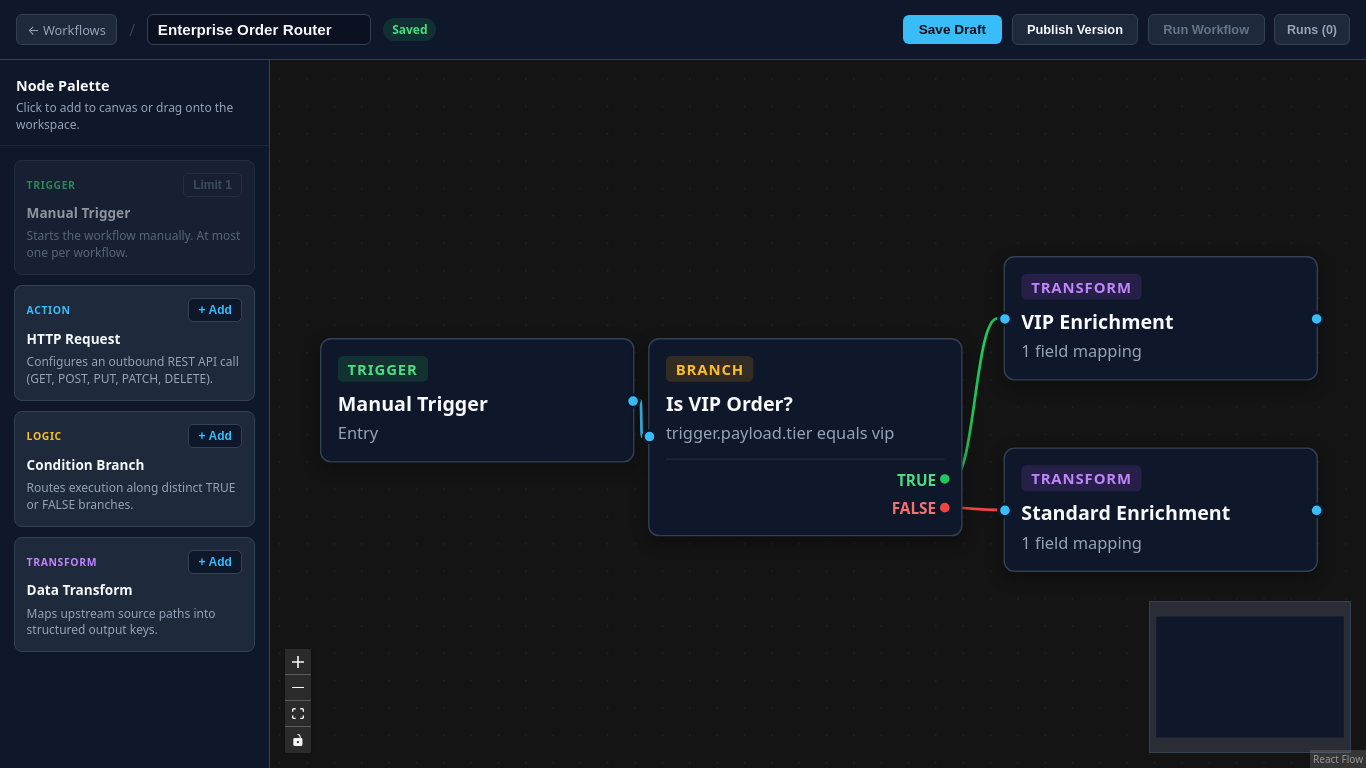
Scenario: @flowforge/web — Dashboard & Visual Workflow Editor Suite › 2. WorkflowEditor › publishes an immutable version, runs that version, and inspects node execution results including a SKIPPED branch
Expected: the field showing "Enterprise Order Router" is shown, [147,14,371,45]
Note: Click Publish Version
Click the button "Publish Version" at (1075, 30), box [1012,14,1138,45]
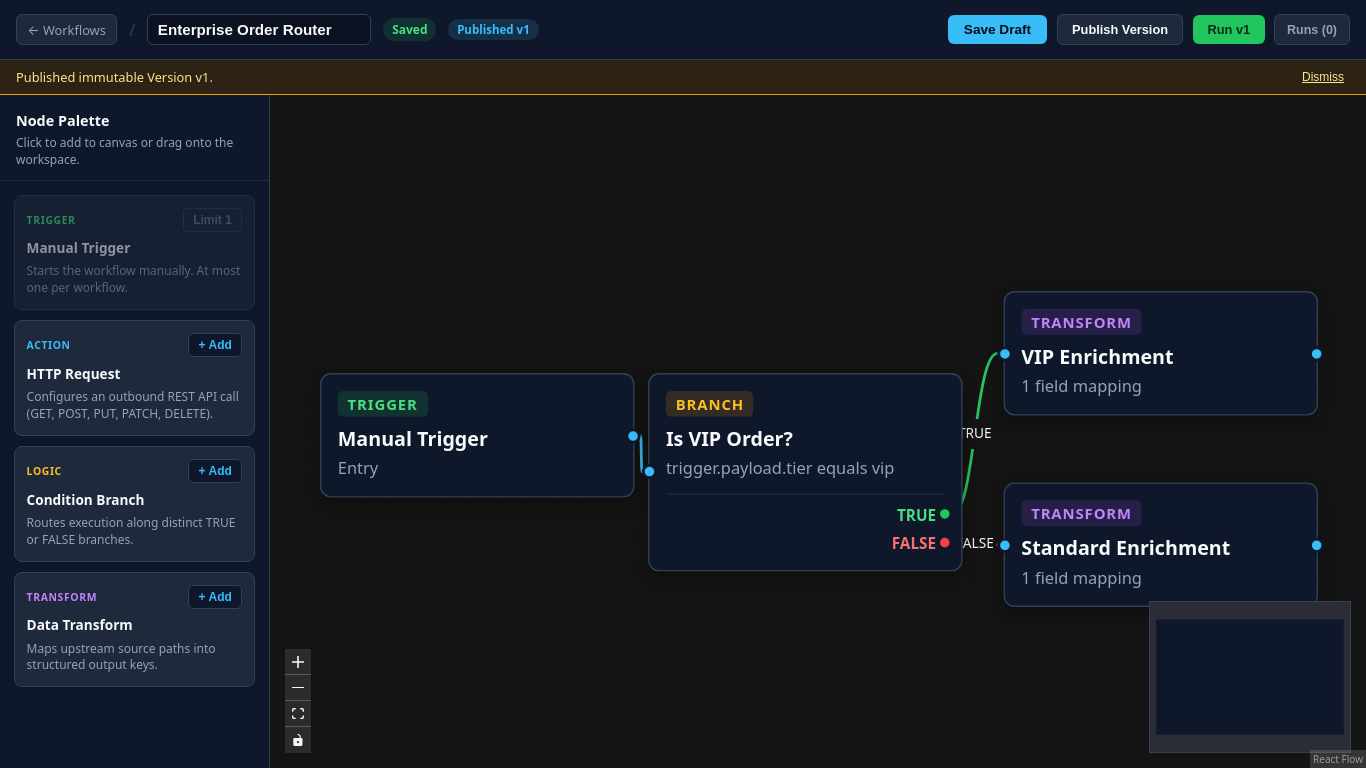
Now the text with test id "published-version-badge" reads "Published v1", box [448,19,538,40]
Now the button with aria-label "Run Workflow v1" is enabled
Click the button with aria-label "Run Workflow v1" at (1229, 30), box [1193,15,1265,44]
(page scrolled)
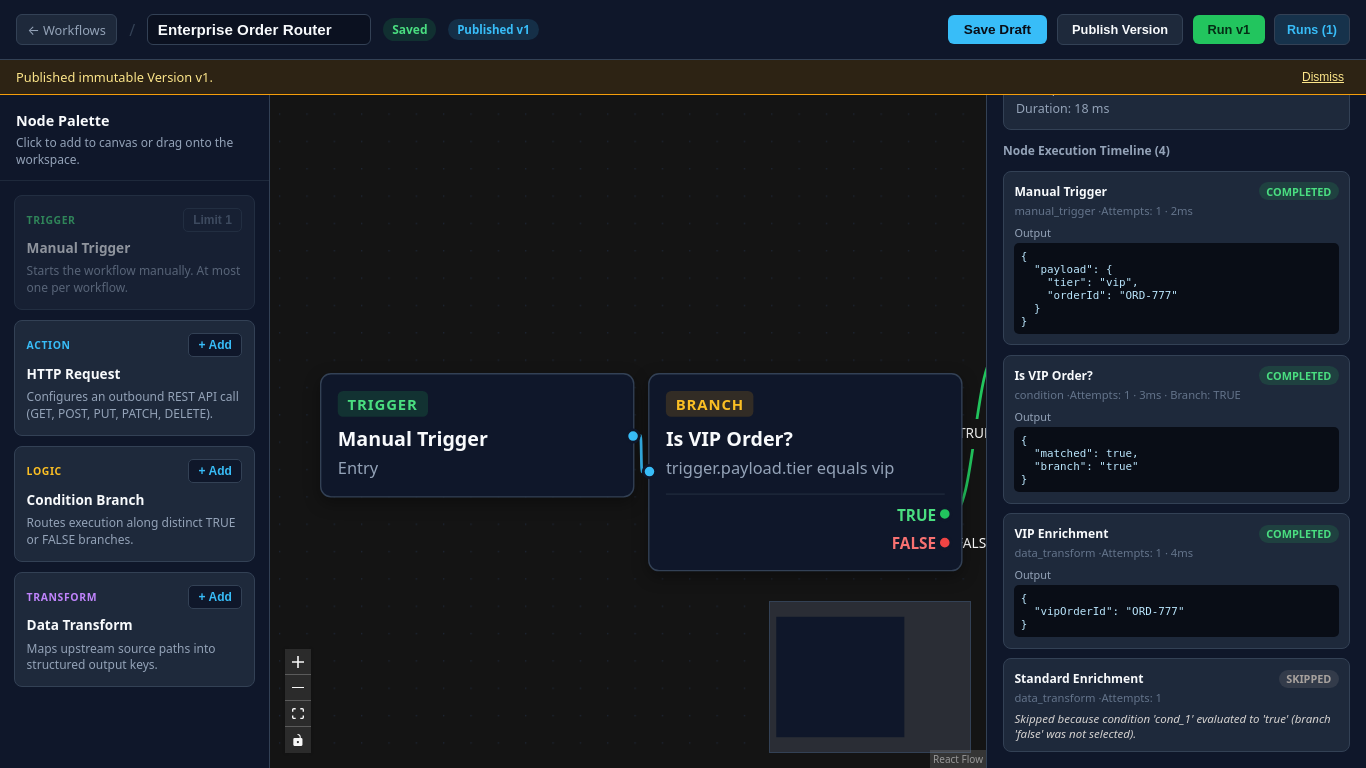
Now the element with test id "execution-inspector-panel" is shown, box [986,95,1365,767]
Now the element with test id "node-exec-card-trans_true" shows "COMPLETED", box [1266,526,1331,541]
Now the element with test id "node-exec-card-trans_false" shows "SKIPPED", box [1286,671,1332,686]
